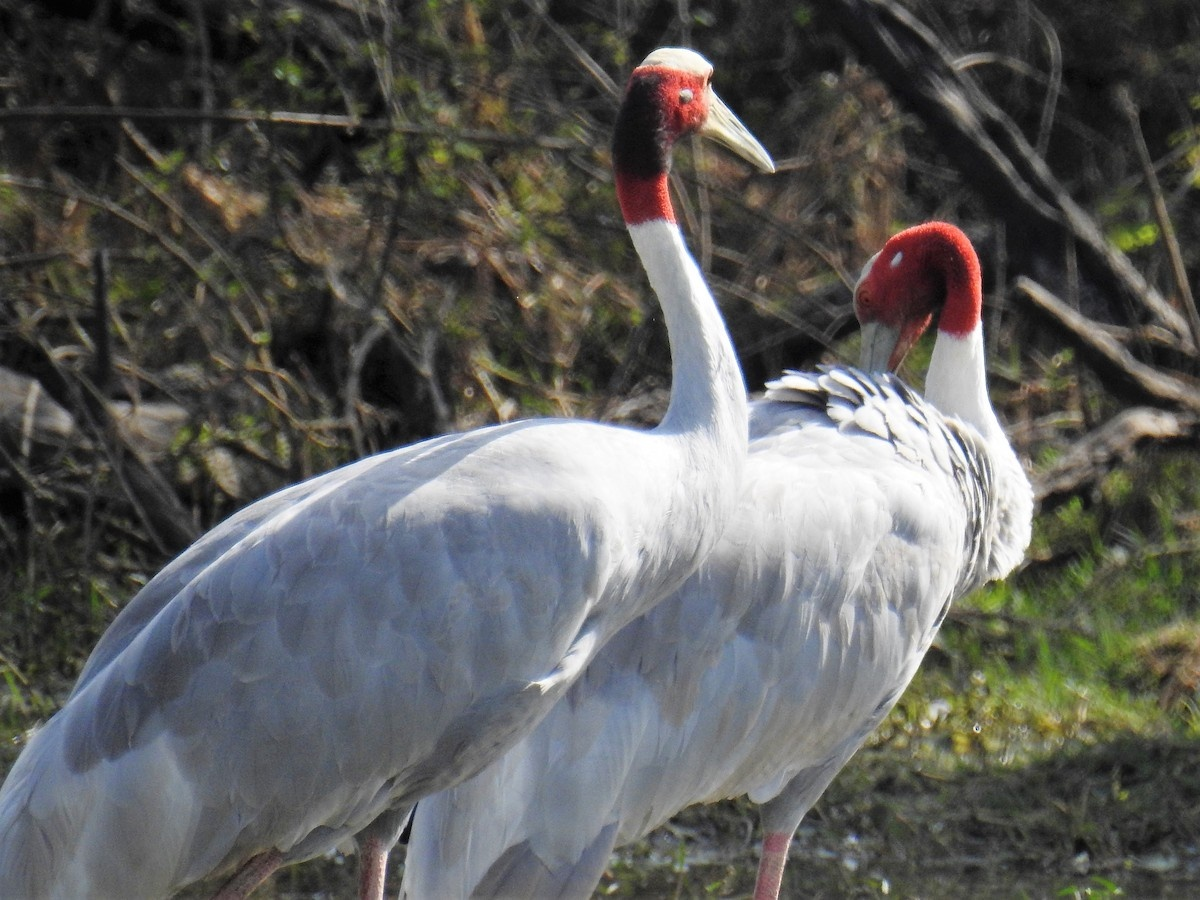crane: (1, 39, 819, 898), (495, 210, 1053, 900)
